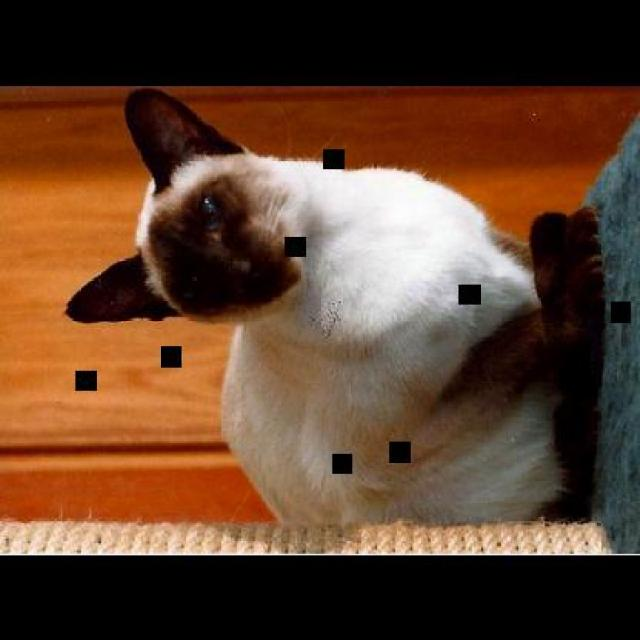unauthorized: (116, 86, 606, 528)
